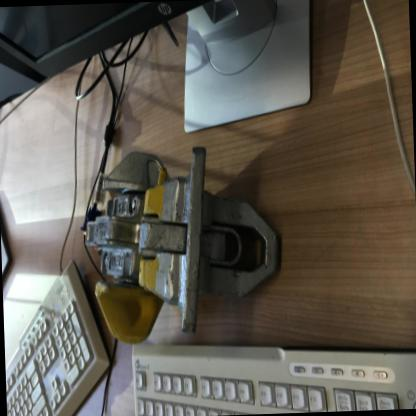Twistlock: (76, 132, 288, 350)
